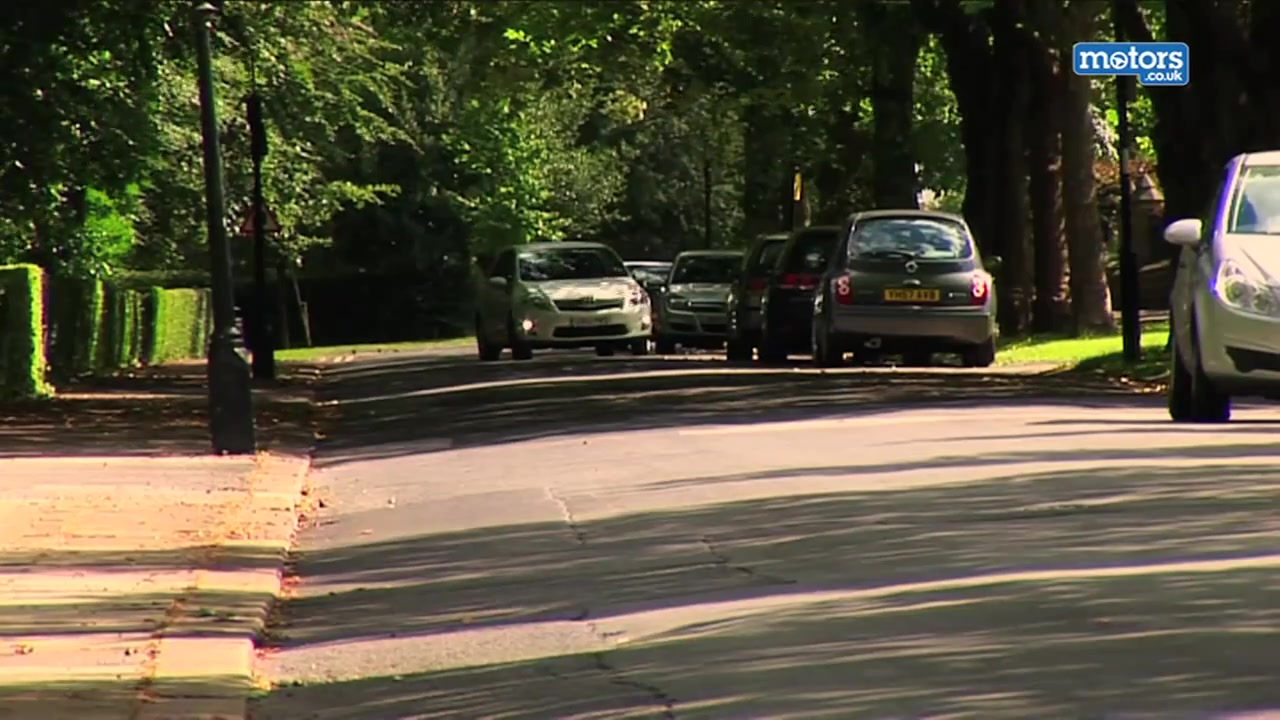car: (1156, 145, 1280, 425), (808, 206, 1003, 369), (474, 240, 654, 363), (762, 221, 846, 363), (654, 251, 750, 346), (732, 230, 797, 367), (623, 261, 674, 327)
